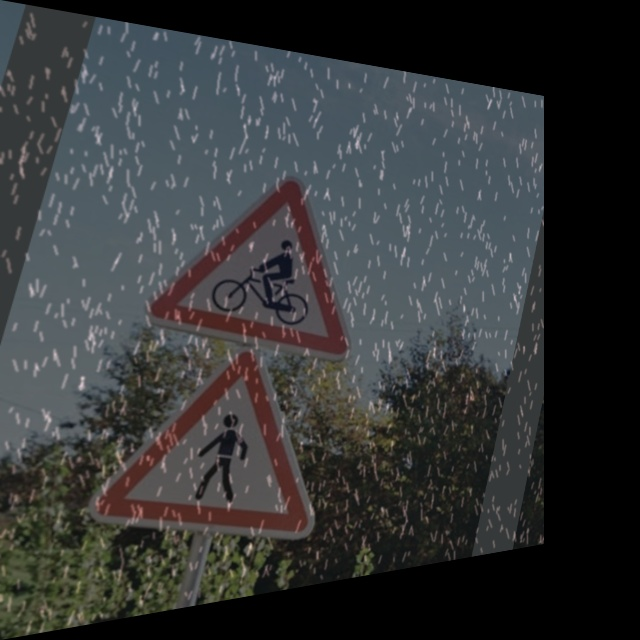Cycle_Crossing: (135, 133, 383, 374)
